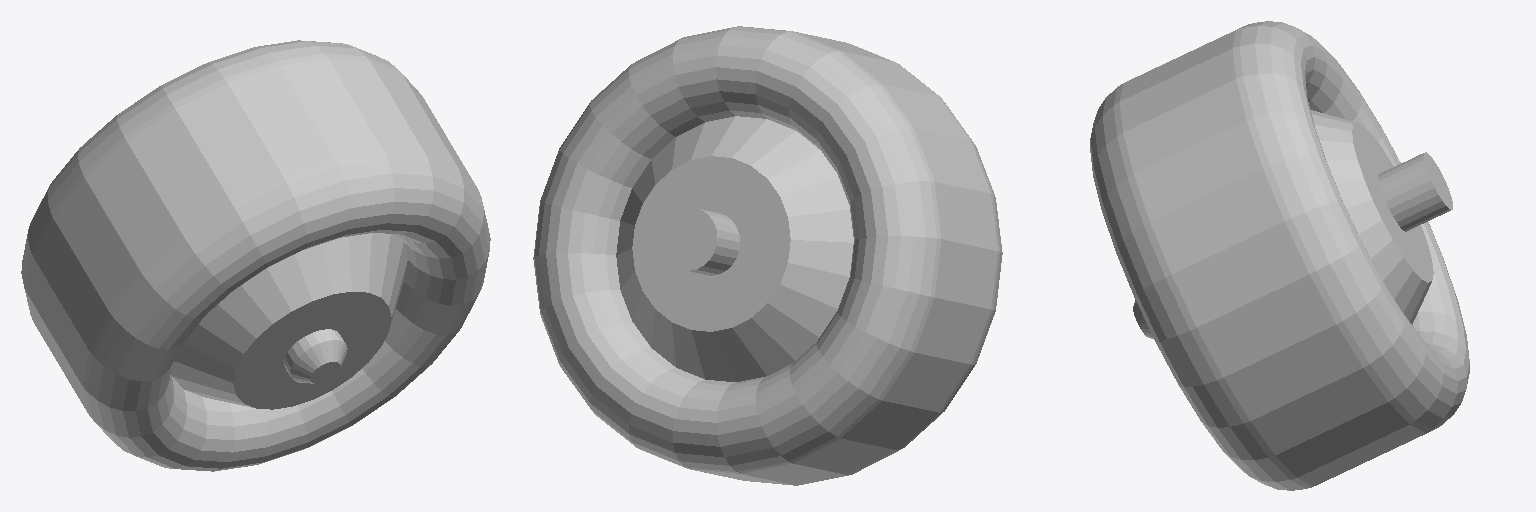
The model's file is original-32.obj.
3 renders of one model, left to right at view 1: azimuth 30°, elevation 25°; view 2: azimuth 150°, elevation 25°; view 3: azimuth 270°, elevation 25°, orthographic.
Visible parts, largest first — view 1: W-35-A-1_2p/mesh26/mesh26-geometry#mesh26-geometry; view 2: W-35-A-1_2p/mesh26/mesh26-geometry#mesh26-geometry; view 3: W-35-A-1_2p/mesh26/mesh26-geometry#mesh26-geometry.
Boxes of the visible parts, box(x1,y1,x2,y2) form: W-35-A-1_2p/mesh26/mesh26-geometry#mesh26-geometry: box(21, 40, 490, 471); W-35-A-1_2p/mesh26/mesh26-geometry#mesh26-geometry: box(533, 26, 1002, 485); W-35-A-1_2p/mesh26/mesh26-geometry#mesh26-geometry: box(1090, 21, 1469, 490).
Bounding box in the file's own units: 0.0688 × 0.0715 × 0.058.